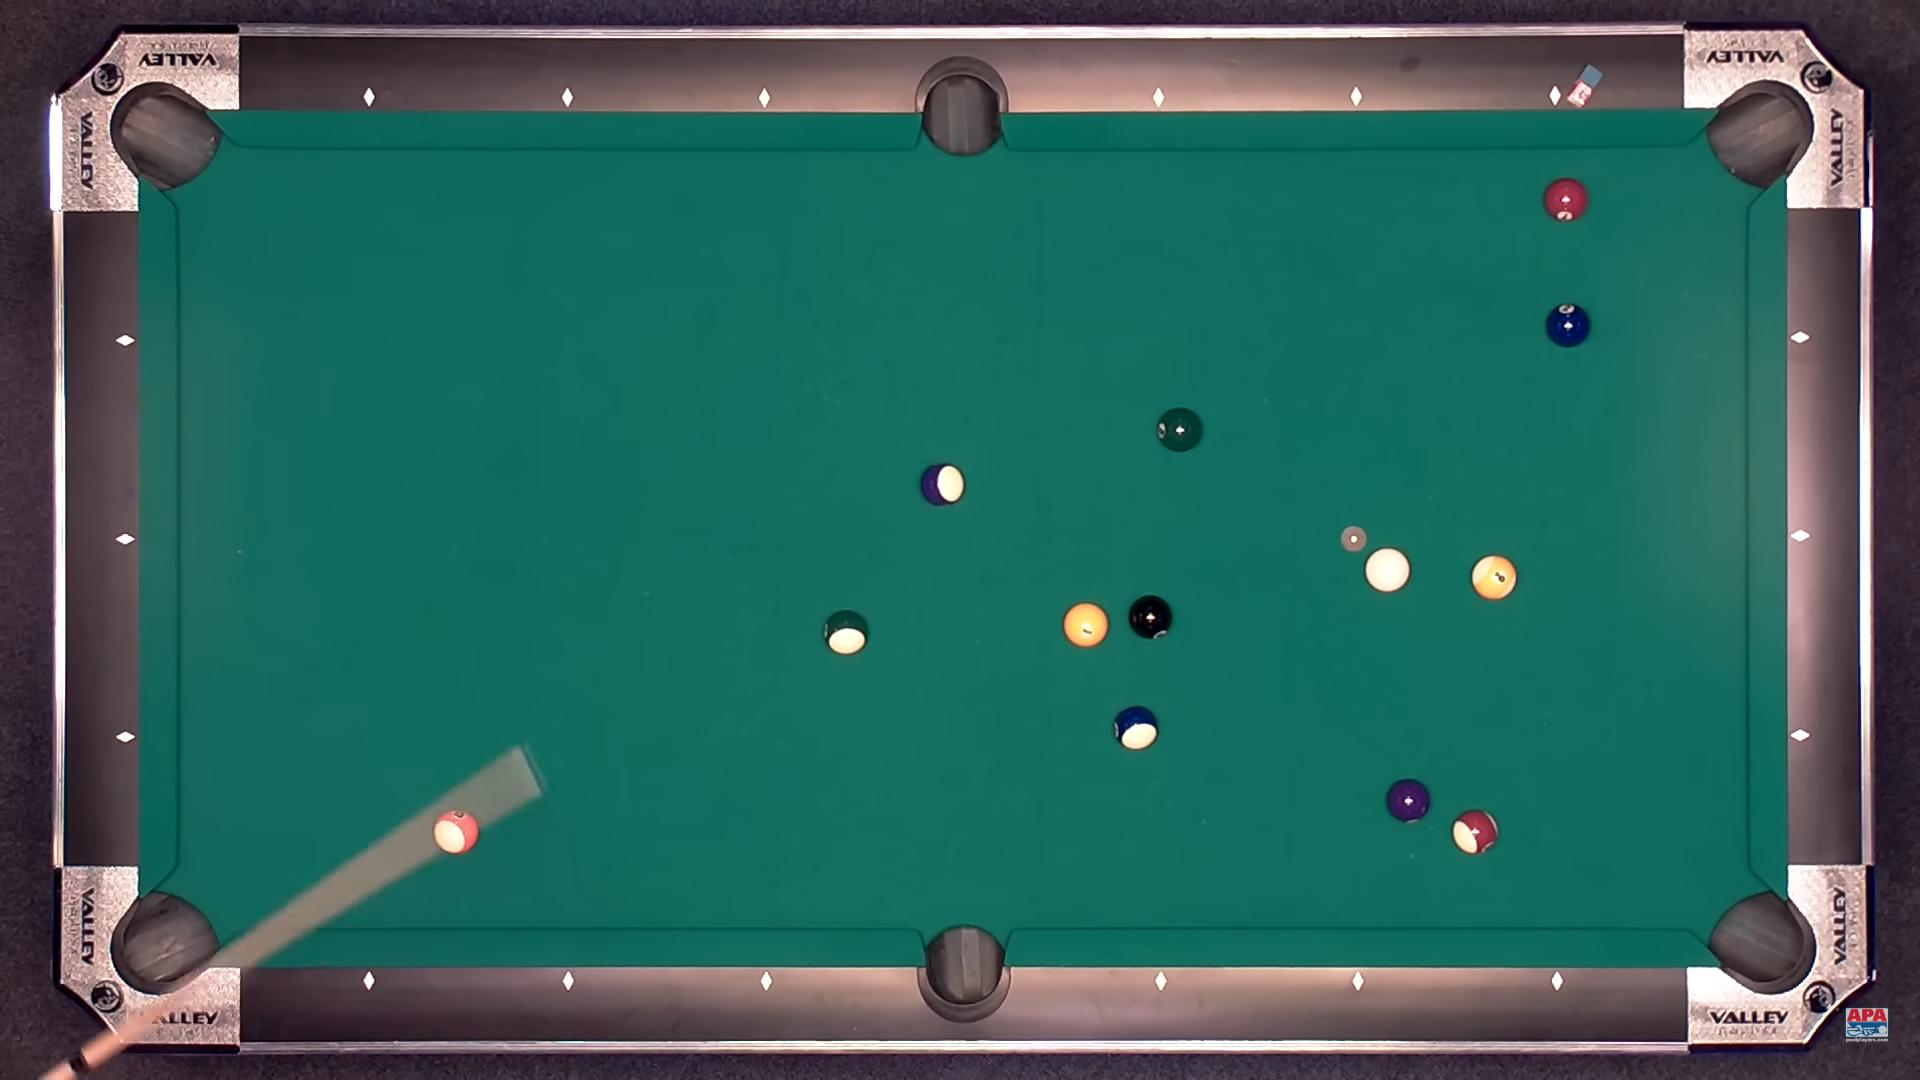Black: (1130, 595, 1172, 640)
Cue: (1364, 549, 1411, 592)
Dot: (119, 531, 133, 546), (119, 332, 133, 347), (560, 90, 575, 104), (1150, 91, 1164, 105), (1349, 90, 1364, 104), (1792, 331, 1807, 345), (1792, 530, 1807, 545), (1793, 729, 1808, 744), (1350, 975, 1365, 989), (1153, 975, 1167, 989), (758, 975, 773, 989), (119, 729, 132, 744), (760, 91, 773, 105), (1549, 88, 1563, 103), (562, 973, 575, 988), (363, 90, 376, 103), (1551, 975, 1564, 988), (361, 975, 375, 988)
Solid: (1063, 603, 1108, 647), (1156, 407, 1203, 451), (1543, 178, 1588, 222), (1386, 779, 1429, 823), (1547, 305, 1590, 347)
Striped: (1452, 808, 1498, 855), (1470, 555, 1516, 600), (823, 611, 869, 655), (433, 810, 477, 855), (1114, 705, 1158, 750), (920, 463, 965, 505)
